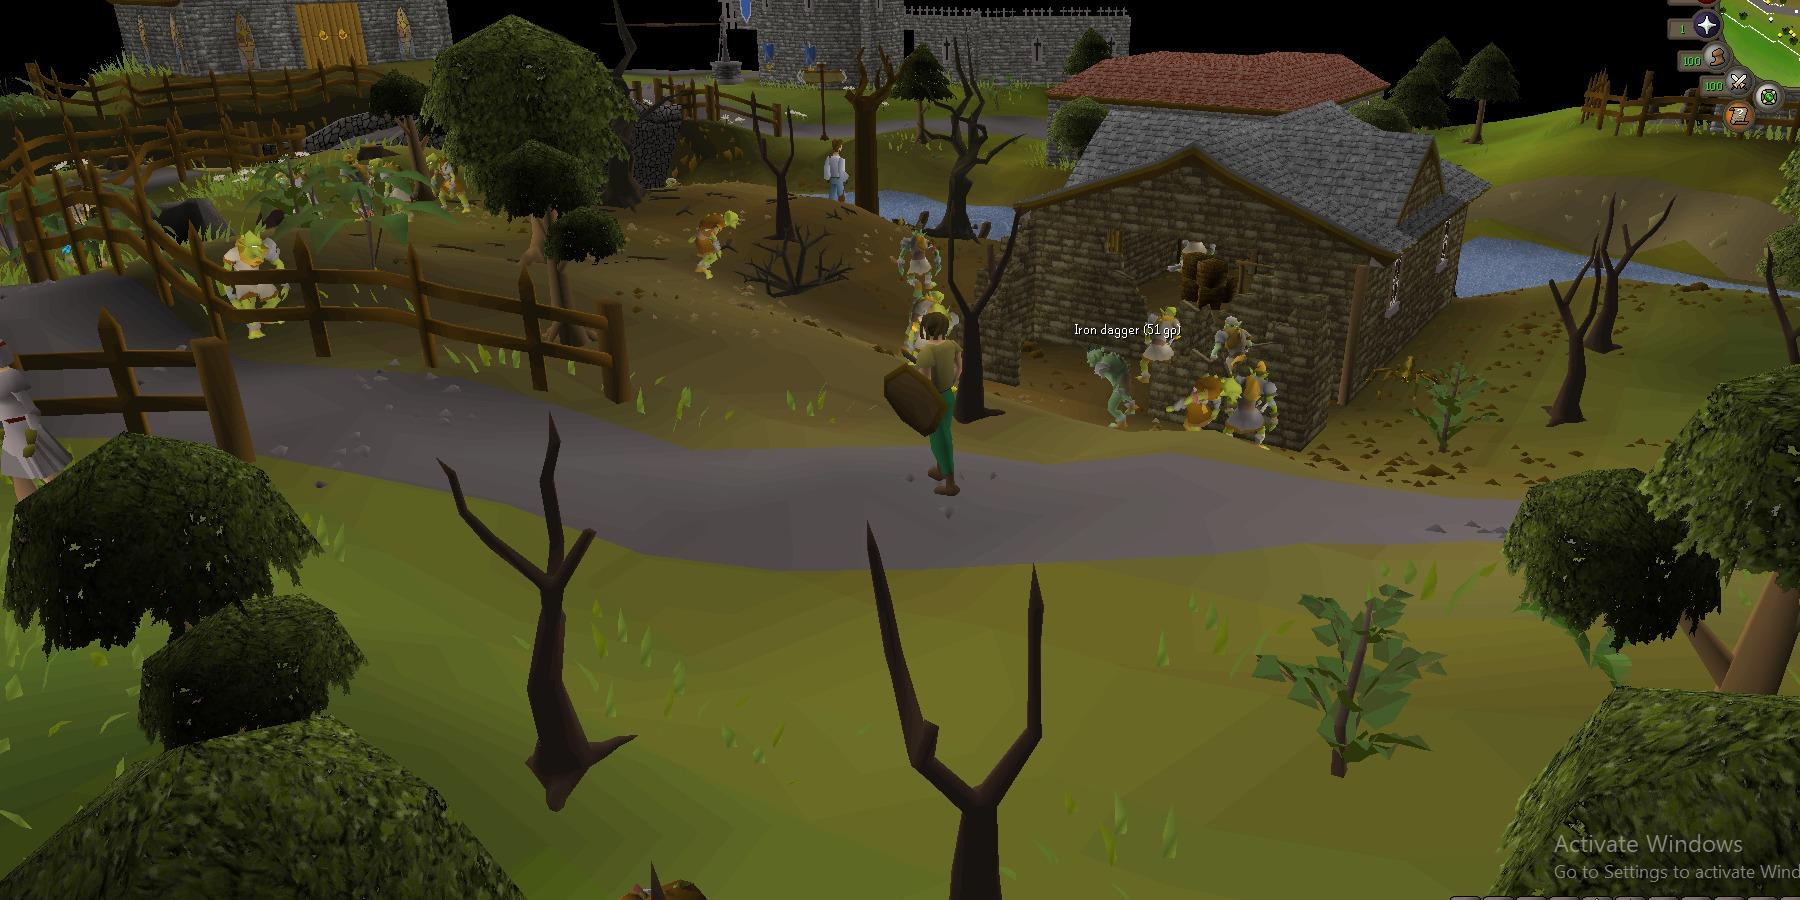goblin: (223, 230, 290, 340), (1223, 360, 1278, 451), (1166, 374, 1243, 433), (1086, 347, 1139, 430), (903, 292, 956, 366), (686, 211, 740, 279), (1136, 307, 1181, 385), (897, 223, 940, 298), (368, 158, 416, 222), (425, 153, 472, 214), (1209, 316, 1252, 374), (276, 173, 328, 220), (340, 153, 375, 222)
